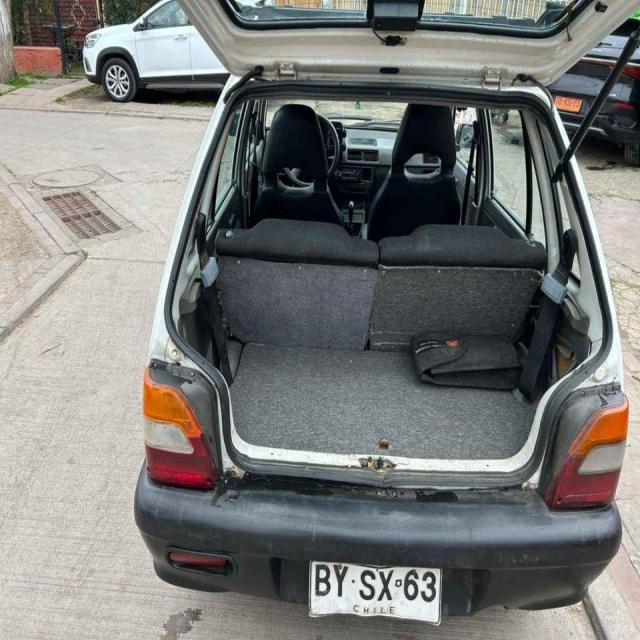patente: (307, 559, 442, 625)
